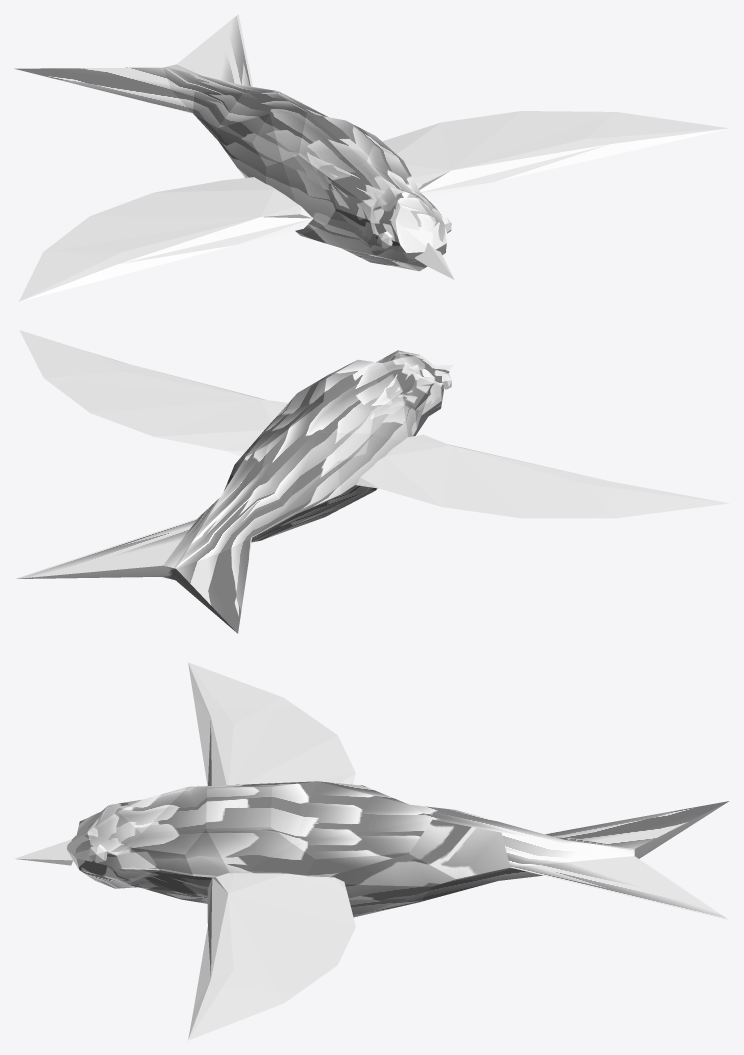
The model's file is BirdAvatar_retopo.fbx.
3 views of the same model, one above another, from view 1: azimuth 30°, elevation 25°; view 2: azimuth 150°, elevation 25°; view 3: azimuth 270°, elevation 25° (orthographic). The views are drawn at different scales.
Visible parts, largest first — view 1: BirdHead_Far, wingRight, wingLeft; view 2: BirdHead_Far, wingRight, wingLeft, BirdHead_FarInside; view 3: BirdHead_Far, wingLeft, wingRight, BirdHead_FarInside.
Part boxes in pixels (bbox=[...]): BirdHead_Far: bbox=[14, 14, 454, 279]; wingRight: bbox=[19, 177, 313, 301]; wingLeft: bbox=[382, 111, 729, 198]; BirdHead_Far: bbox=[15, 350, 453, 633]; wingRight: bbox=[356, 434, 729, 518]; wingLeft: bbox=[19, 330, 288, 456]; BirdHead_FarInside: bbox=[17, 565, 236, 632]; BirdHead_Far: bbox=[14, 781, 729, 919]; wingLeft: bbox=[188, 873, 355, 1040]; wingRight: bbox=[188, 662, 355, 785]; BirdHead_FarInside: bbox=[634, 802, 727, 858].
Size of the model in its own units: 44.05 by 7.17 by 35.22.
